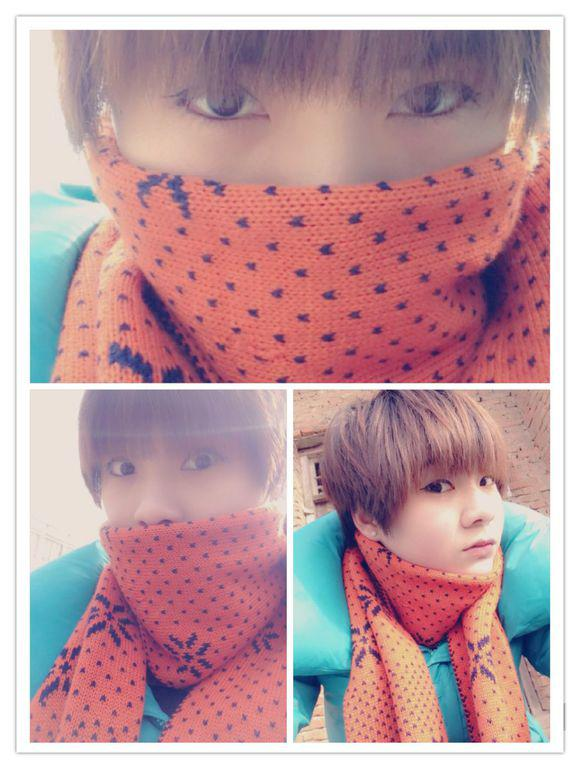NONE: (383, 459, 505, 574)
OK: (117, 27, 495, 405)
WRONG: (84, 419, 273, 608)
